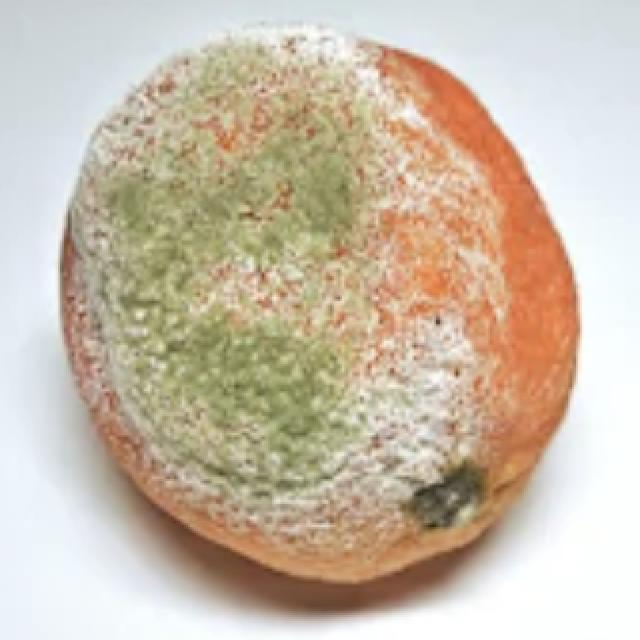rotten-orange: (61, 31, 578, 585)
